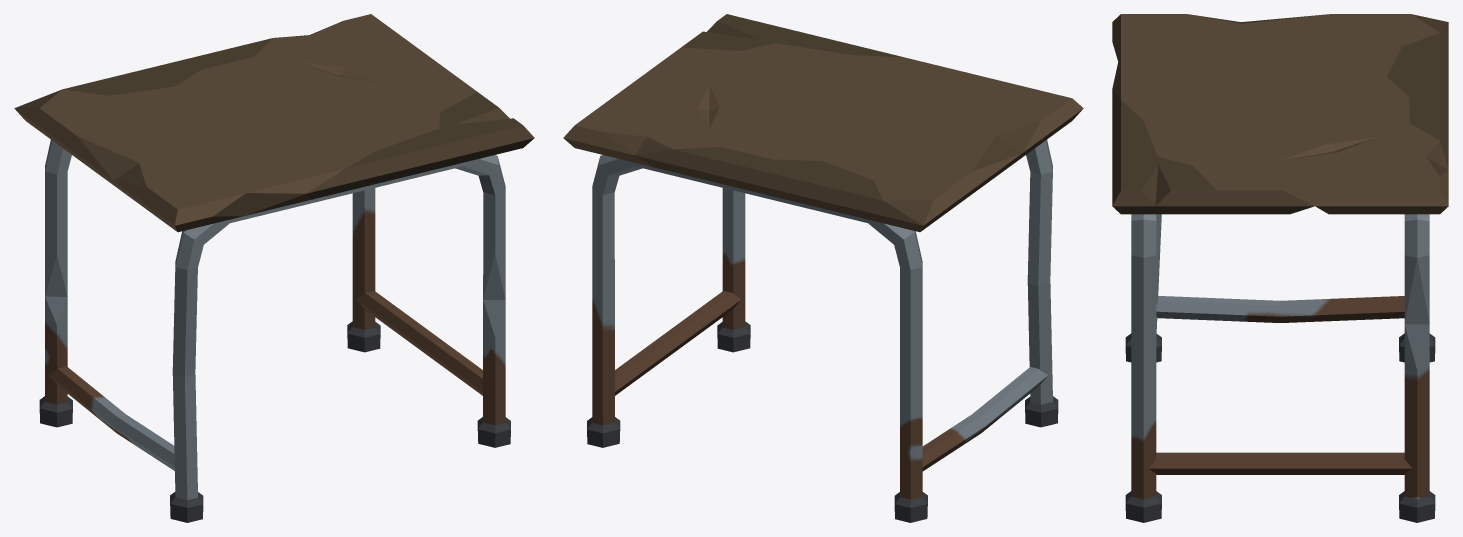
File: SM_Prop_Desk_02.fbx
3 views of the same model, side by side, from view 1: azimuth 30°, elevation 25°; view 2: azimuth 150°, elevation 25°; view 3: azimuth 270°, elevation 25° (orthographic). The views are drawn at different scales.
Parts seen in each view (by area): view 1: SM_Prop_Desk_02; view 2: SM_Prop_Desk_02; view 3: SM_Prop_Desk_02.
Part boxes in pixels (x1,y1,x2,y2): SM_Prop_Desk_02: (14, 14, 534, 522); SM_Prop_Desk_02: (563, 14, 1083, 522); SM_Prop_Desk_02: (1112, 14, 1448, 522).
Size of the model in its own units: 89.88 by 75.85 by 69.42.
